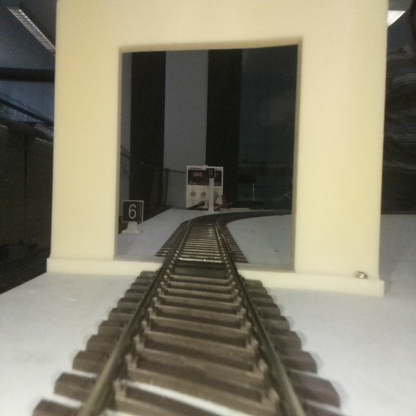black-info-9: (206, 167, 214, 212)
black-stop-6: (122, 201, 142, 232)
